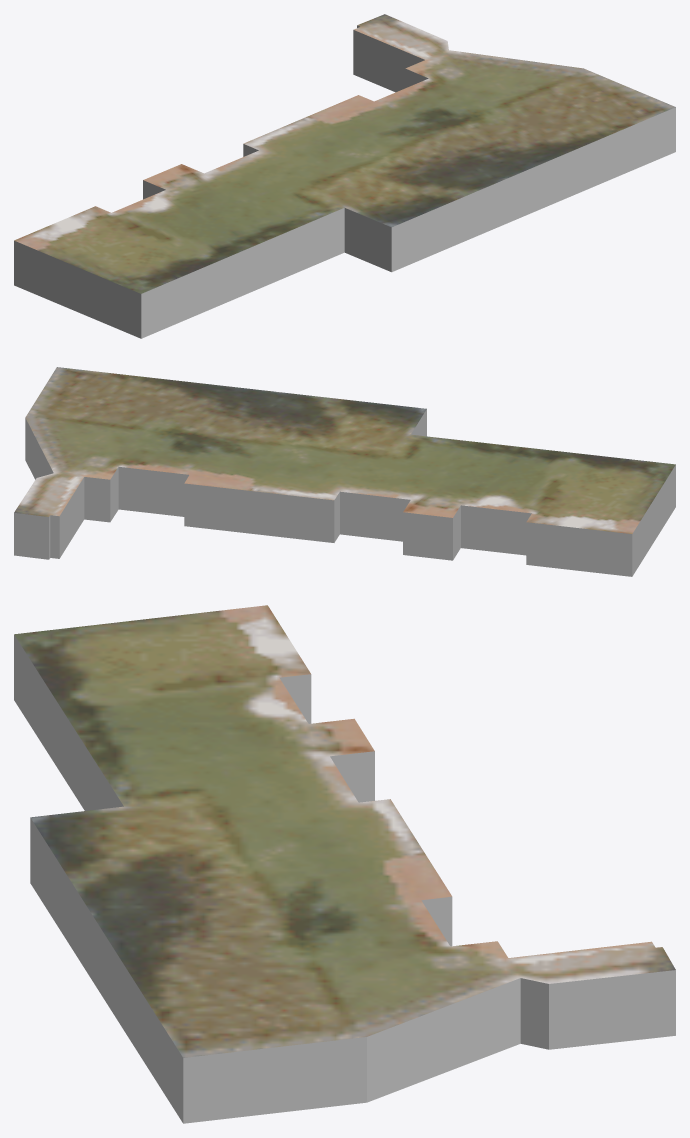
Rendered from DEBW_0010007TvkV.gltf.
The picture shows the model from 3 angles, top to bottom: view 1: azimuth 30°, elevation 25°; view 2: azimuth 150°, elevation 25°; view 3: azimuth 270°, elevation 25°; orthographic projection. The views are drawn at different scales.
Parts seen in each view (by area): view 1: Z_UP; view 2: Z_UP; view 3: Z_UP.
Part boxes in pixels (x1,y1,x2,y2): Z_UP: (14,14,675,338); Z_UP: (14,367,675,576); Z_UP: (14,605,675,1123).
Bounding box in the file's own units: 36.9 × 2.5 × 22.8.
Materials: 2 (1 with a texture image).
